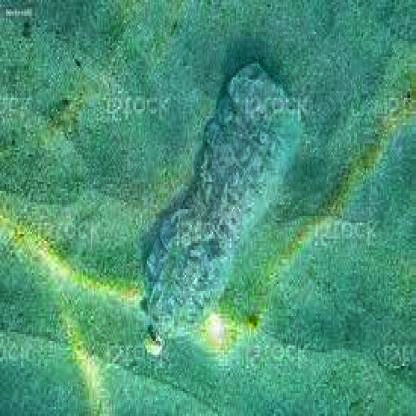pbottle: (132, 59, 308, 359)
